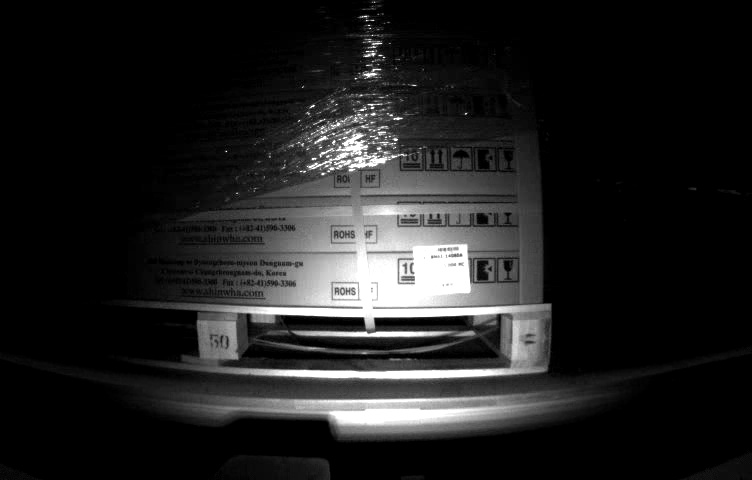True Barcode: (409, 243, 470, 293)
